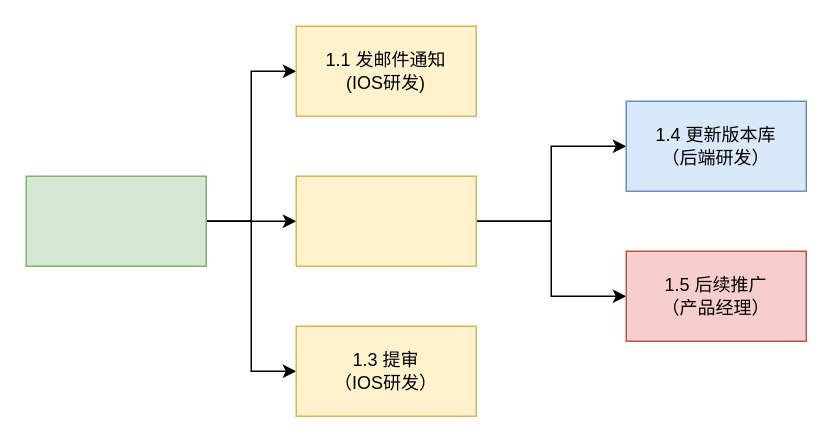
The diagram is 833 pixels wide and 443 high, and some of its shapes have lost their labels. The centre of each missing label's shape, as x and y in pixels:
1.1 新版本测试通过 (测试): pixel 115 220
1.2 企业微信群通知 （IOS研发）: pixel 385 220
